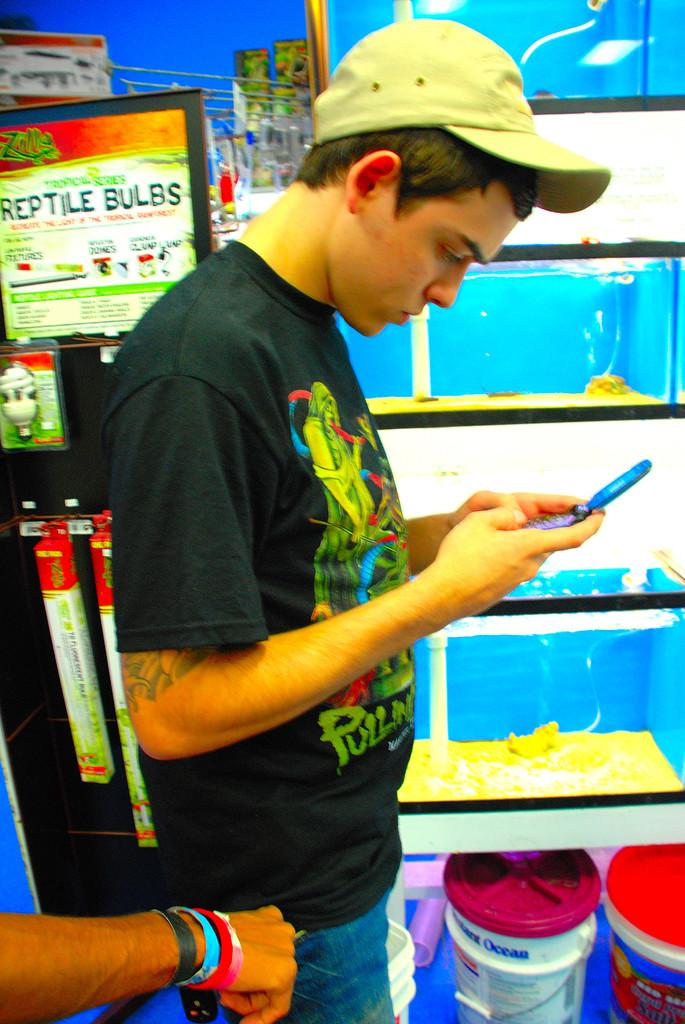Hat: (315, 15, 616, 217)
